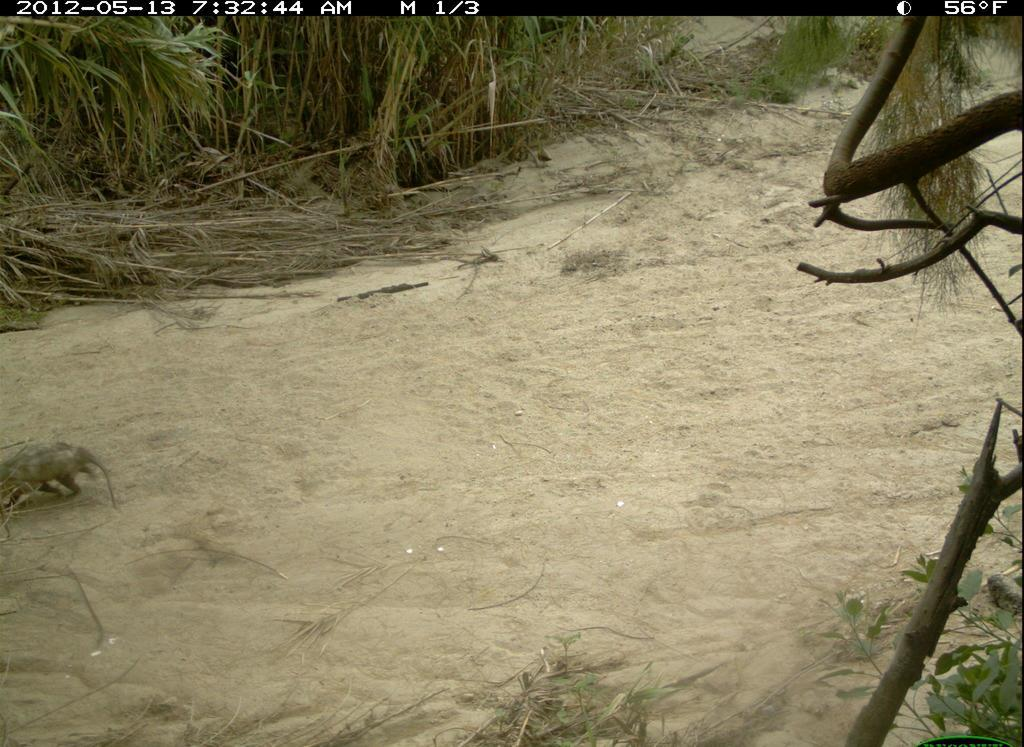opossum: (1, 434, 120, 534)
